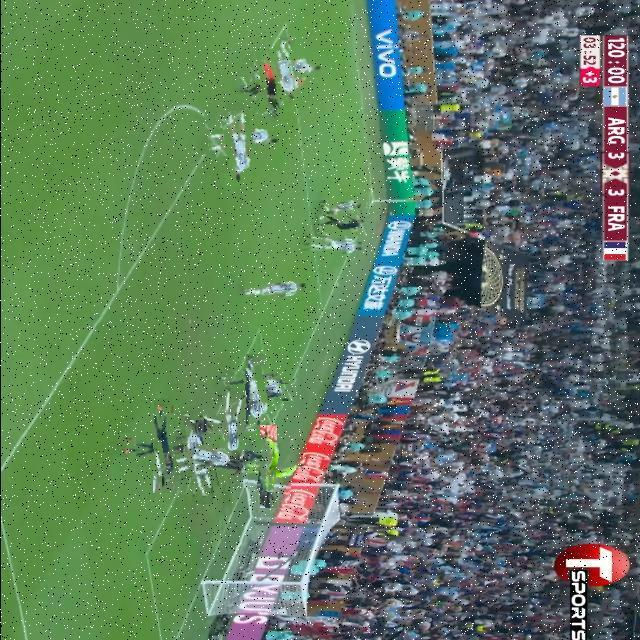ball: (314, 228, 324, 239)
goalkeeper: (241, 440, 295, 494)
player: (205, 108, 271, 173), (131, 413, 196, 478), (170, 432, 231, 493), (229, 365, 281, 417), (206, 400, 258, 451), (264, 47, 310, 92), (193, 447, 269, 473), (309, 196, 369, 223), (301, 236, 364, 258), (224, 372, 297, 390), (240, 280, 307, 299), (313, 215, 366, 236)
referee: (245, 61, 295, 112)
